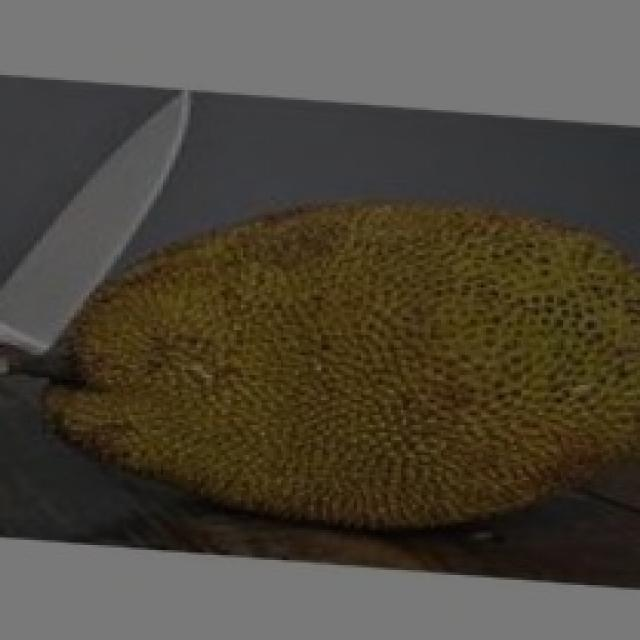Fruit: (3, 167, 428, 555), (258, 158, 640, 572)
